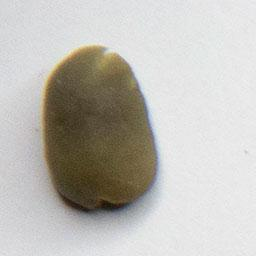peaberry: (40, 41, 163, 213)
